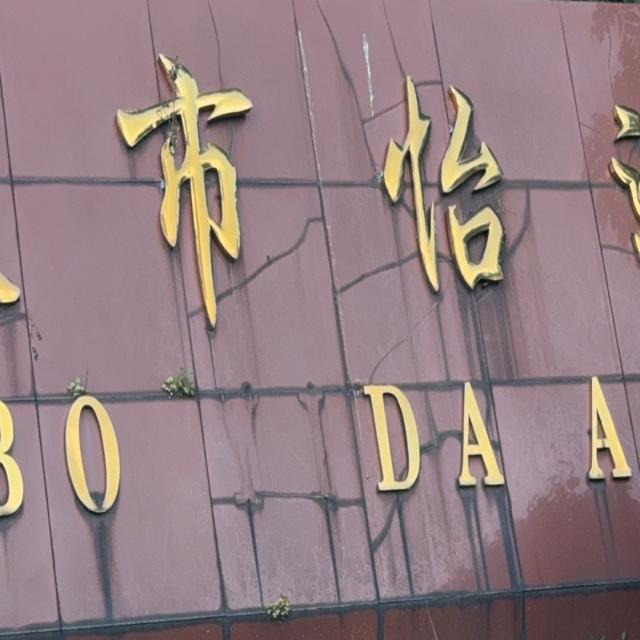crack: (310, 1, 408, 192), (185, 206, 331, 332), (361, 258, 455, 386), (335, 246, 423, 303), (501, 180, 536, 267), (201, 4, 229, 91), (419, 425, 463, 463), (603, 15, 620, 108), (600, 238, 636, 264), (413, 75, 444, 96), (624, 136, 639, 171)
